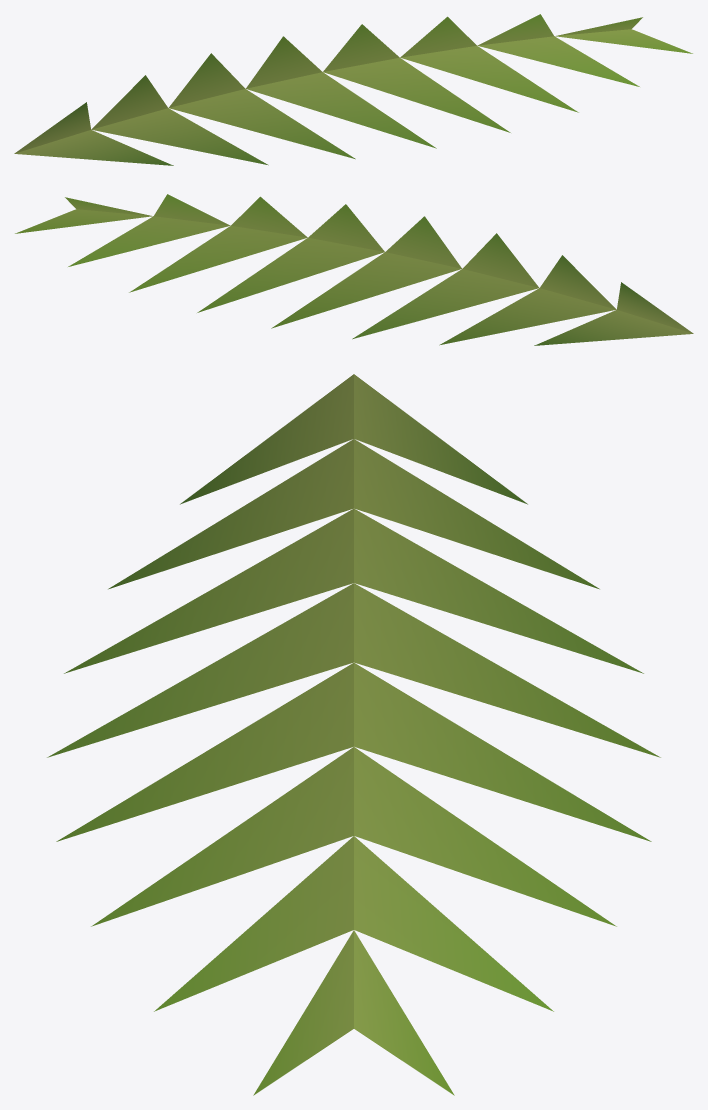
Rendered from palm_leaf.glb.
The picture shows the model from 3 angles, top to bottom: view 1: azimuth 30°, elevation 25°; view 2: azimuth 150°, elevation 25°; view 3: azimuth 270°, elevation 25°; orthographic projection. The views are drawn at different scales.
Visible parts, largest first — view 1: palm_leaf_leaf; view 2: palm_leaf_leaf; view 3: palm_leaf_leaf.
Boxes of the visible parts, x1,y1,x2,y2 form: palm_leaf_leaf: (14,14,692,165); palm_leaf_leaf: (15,194,693,345); palm_leaf_leaf: (47,374,660,1095).
Size of the model in its own units: 1.37 by 0.1001 by 0.5595.
